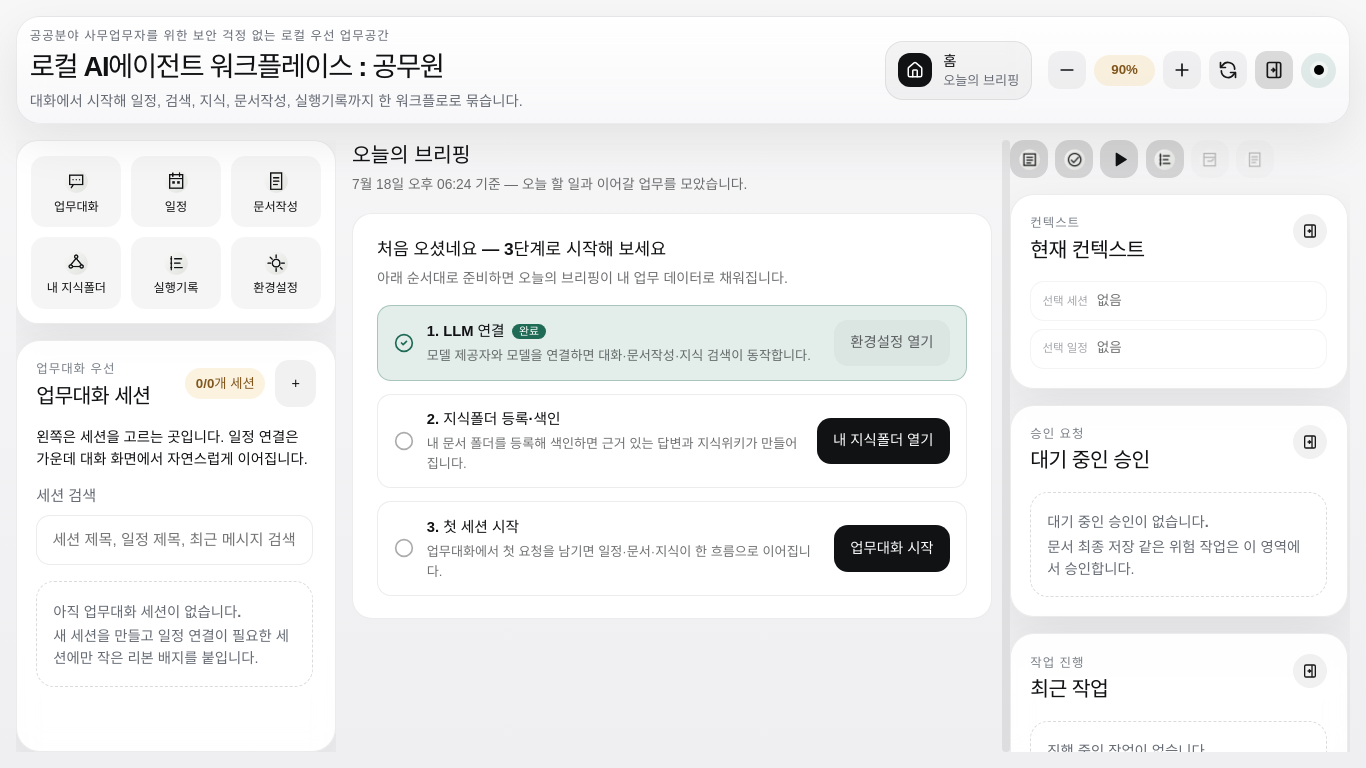
Test case: HomeScreen briefing cards (D-06) › switches to the onboarding guide when there is no schedule or session data (J-06)
Expected: the element with test id "home-onboarding" is shown, [352,213,992,619]
Expected: the list item with test id "home-onboarding-step-llm" shows "완료", [519,325,539,337]
What coordinates should you click on to do the following:
click the button "업무대화 시작"
I would click on:
 (892, 548)
Its box is [834,525,950,572].
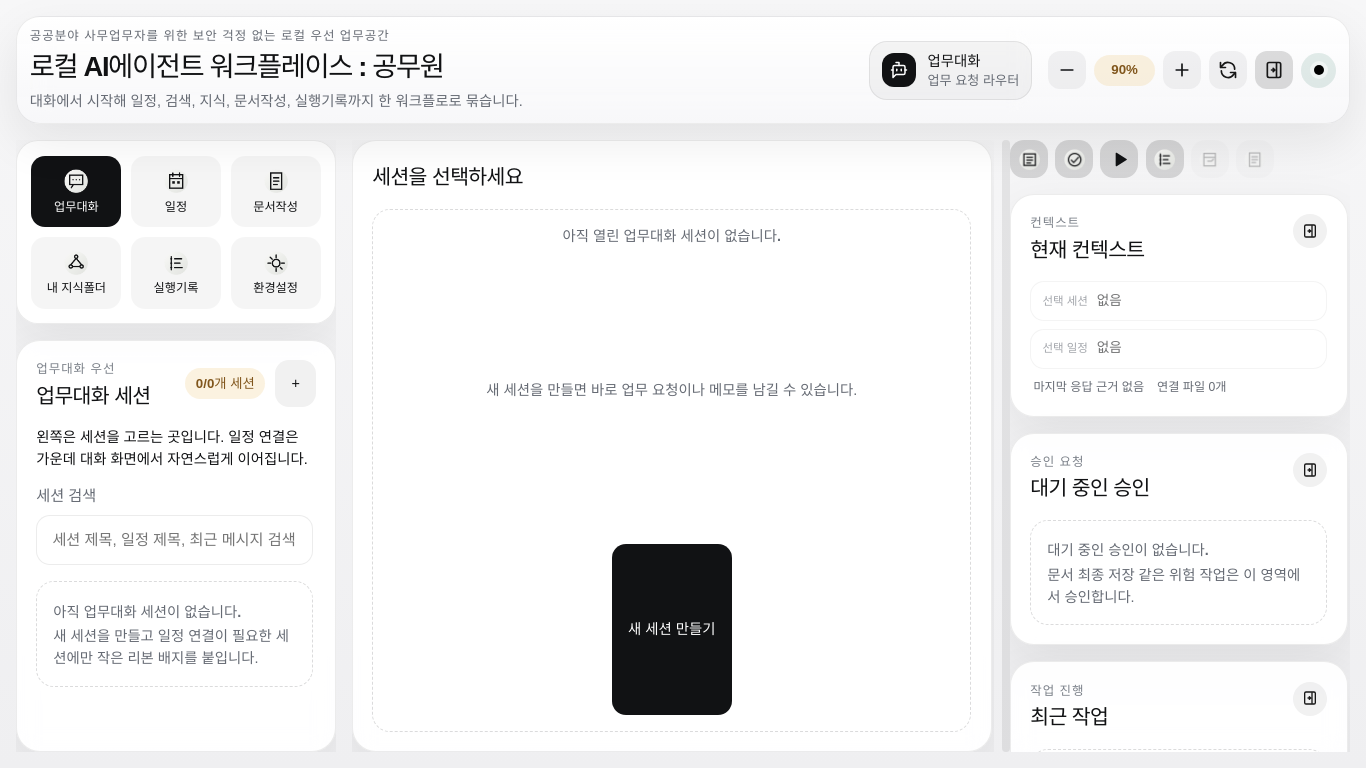
Expected: the element with test id "shell-topbar-current" shows "업무대화", [928,53,980,69]
